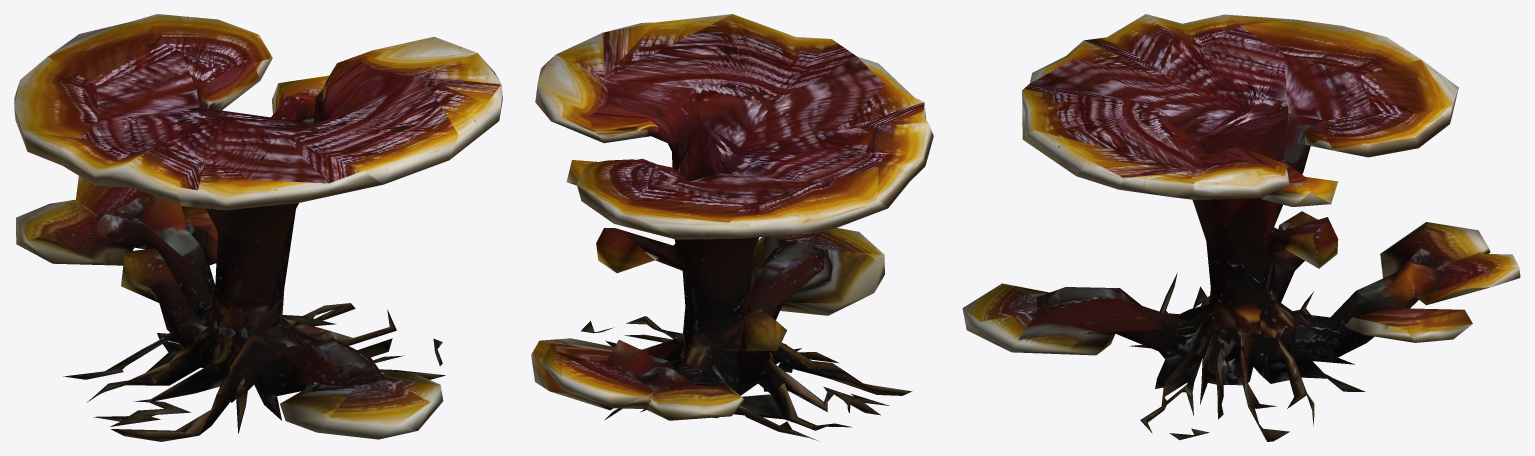
File: mushroom2.fbx
3 renders of one model, left to right at view 1: azimuth 30°, elevation 25°; view 2: azimuth 150°, elevation 25°; view 3: azimuth 270°, elevation 25°, orthographic. The views are drawn at different scales.
Visible parts, largest first — view 1: meshes[0]; view 2: meshes[0]; view 3: meshes[0].
Boxes of the visible parts, x1,y1,x2,y2 form: meshes[0]: (14, 14, 502, 441); meshes[0]: (531, 14, 933, 440); meshes[0]: (962, 14, 1520, 441).
Bounding box in the file's own units: 154 × 109 × 195.
1 material, 1 textured.
